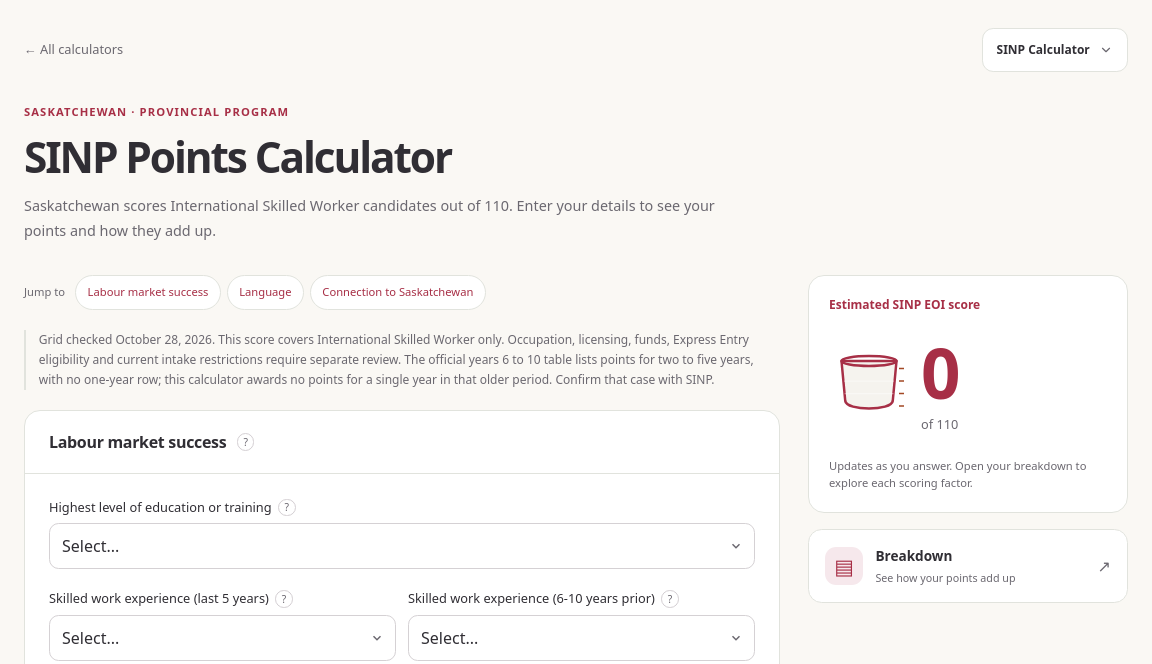
Test case: SaskatchewanTool › waits for an answer before showing eligibility
Check: the text "Requirements to review" is not shown
Focus the dropdown named "Highest level of education or training" at (402, 546), box [49, 523, 755, 570]
Check: the text "Requirements to review" is not shown
Select "Bachelor's degree or 3+ year degree" in the dropdown named "Highest level of education or training" at (402, 546), box [49, 523, 755, 570]
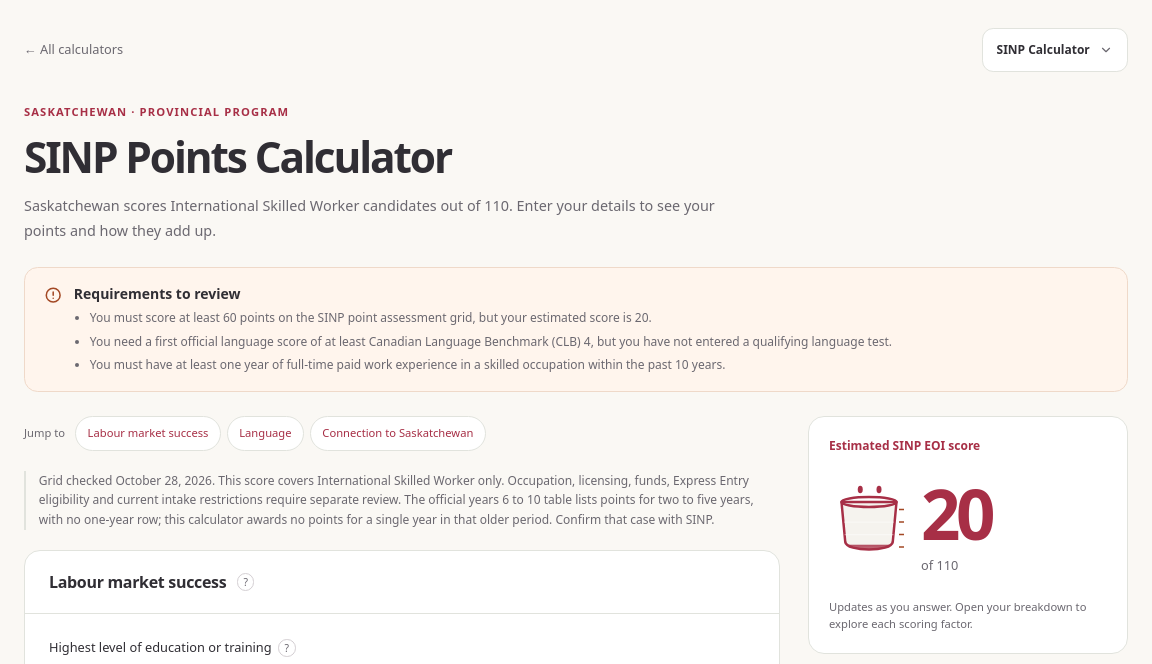
Check: the text "Requirements to review" is shown, box [74, 284, 241, 303]
